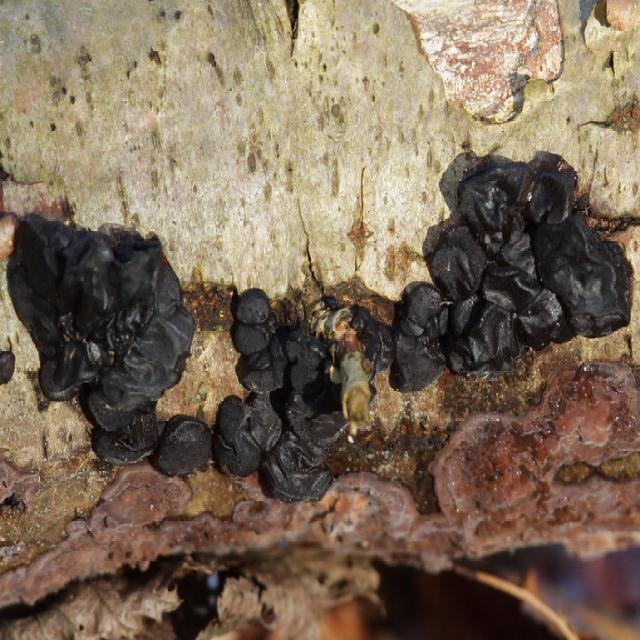Auricularia auricula: (396, 160, 633, 385), (8, 214, 208, 468), (219, 295, 347, 494)
